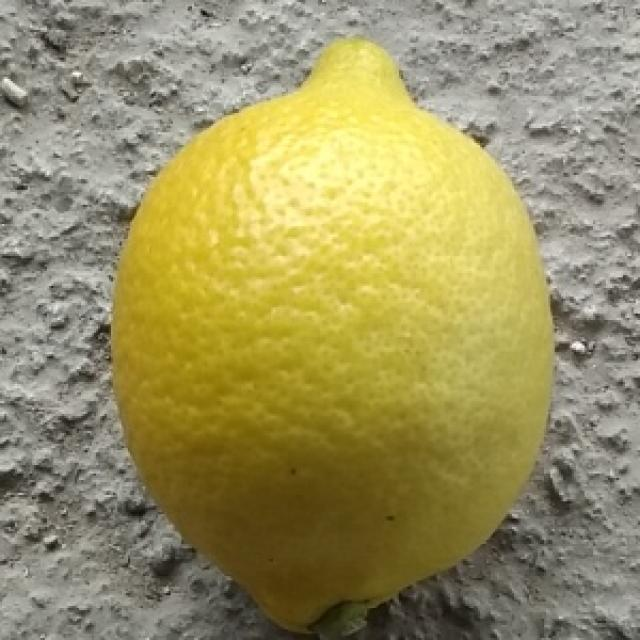Ripe: (105, 38, 568, 640)
